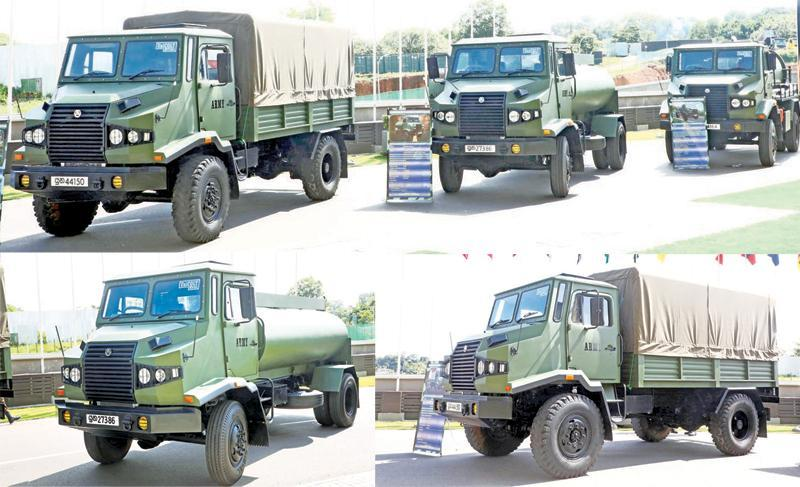truck: (12, 9, 357, 245), (433, 267, 779, 477), (51, 260, 359, 487), (426, 34, 627, 197), (659, 42, 800, 167)
